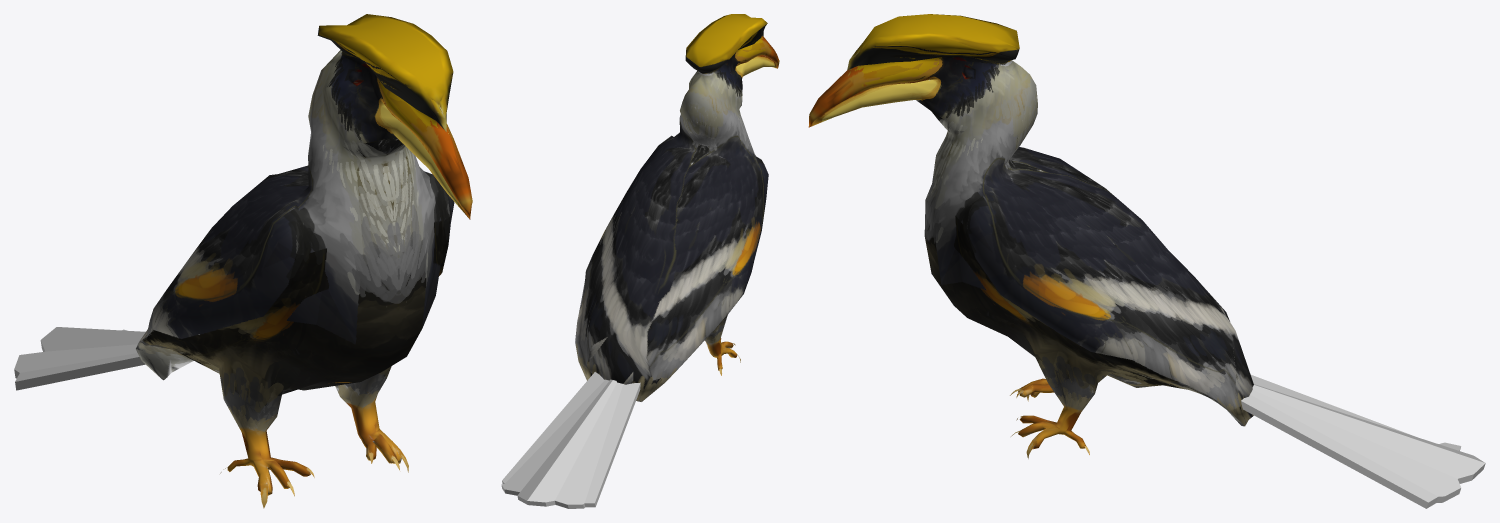
Rendered from birdy.fbx.
3 views of the same model, side by side, from view 1: azimuth 30°, elevation 25°; view 2: azimuth 150°, elevation 25°; view 3: azimuth 270°, elevation 25° (orthographic). The views are drawn at different scales.
Visible parts, largest first — view 1: Cube.003; view 2: Cube.003; view 3: Cube.003.
Boxes of the visible parts, x1,y1,x2,y2 form: Cube.003: (14,14,472,508); Cube.003: (501,14,779,508); Cube.003: (808,14,1485,508).
Size of the model in its own units: 135 by 292 by 395.
